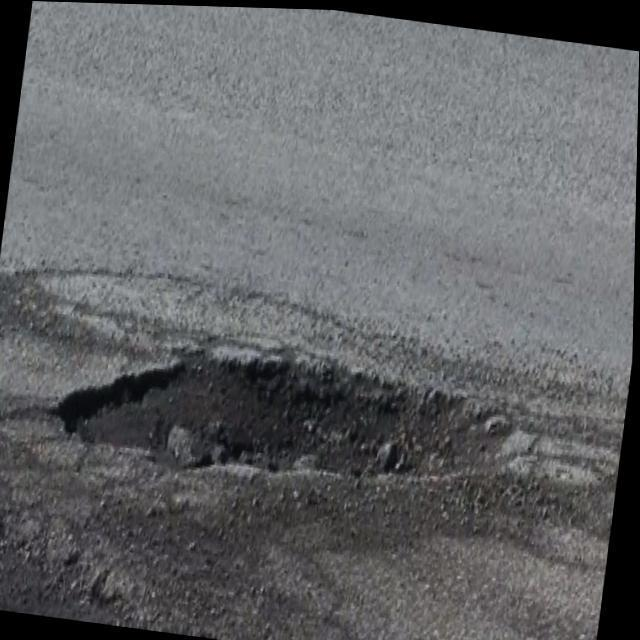Pothole: (39, 338, 526, 491)
